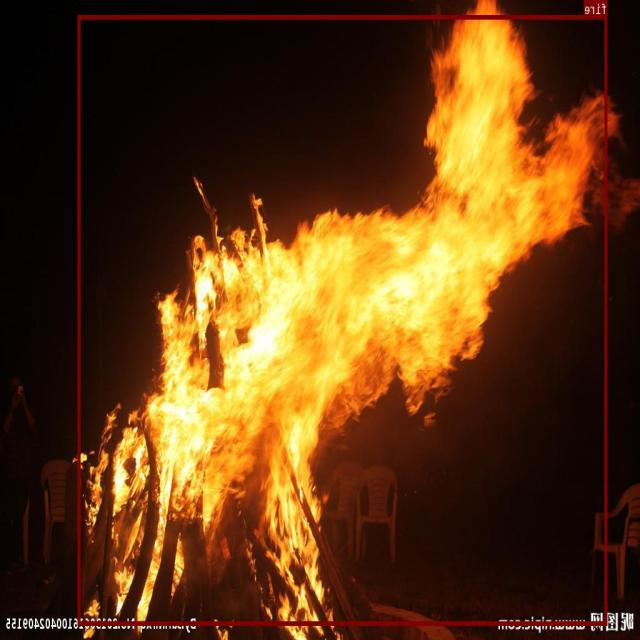fire: (78, 14, 608, 624)
